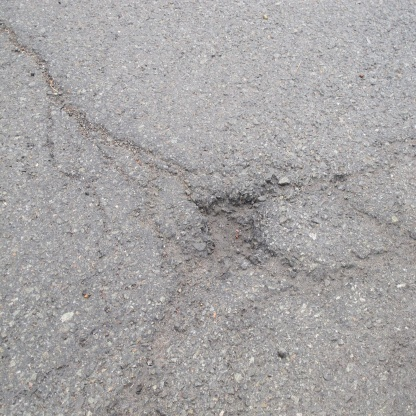pothole: (162, 172, 319, 323)
